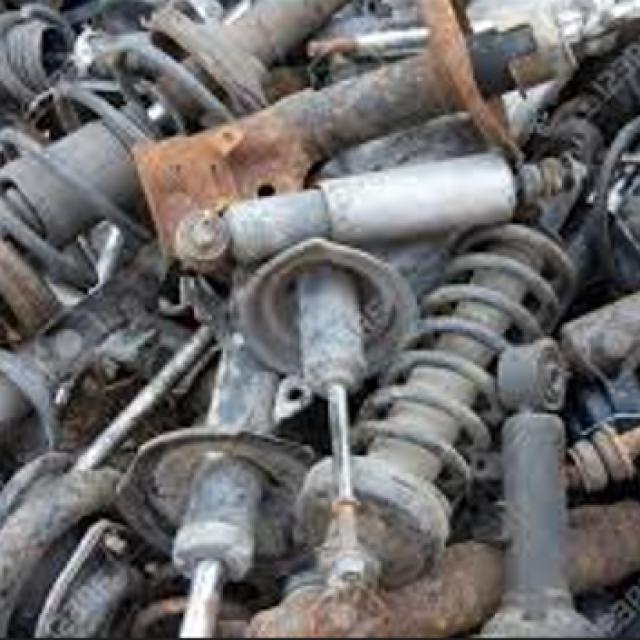shock absorber: (296, 144, 592, 589), (174, 154, 564, 274)
